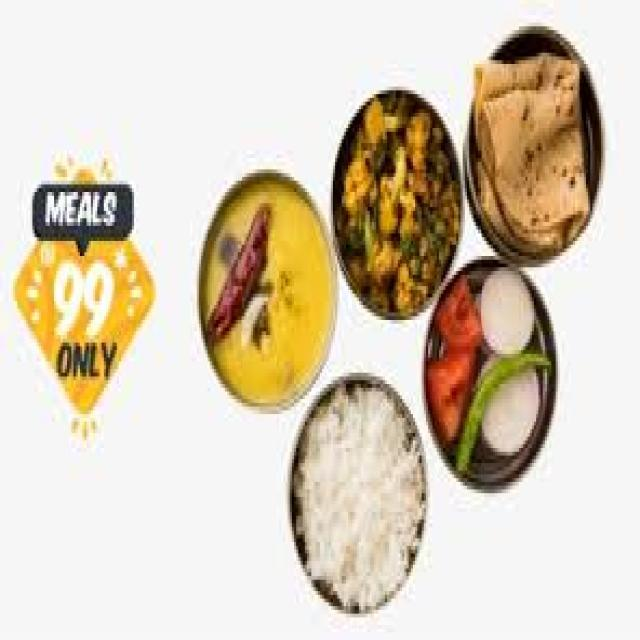dal: (192, 172, 326, 411)
rice: (290, 389, 428, 610)
roti: (466, 43, 599, 249)
veg-fry: (331, 103, 465, 305)
